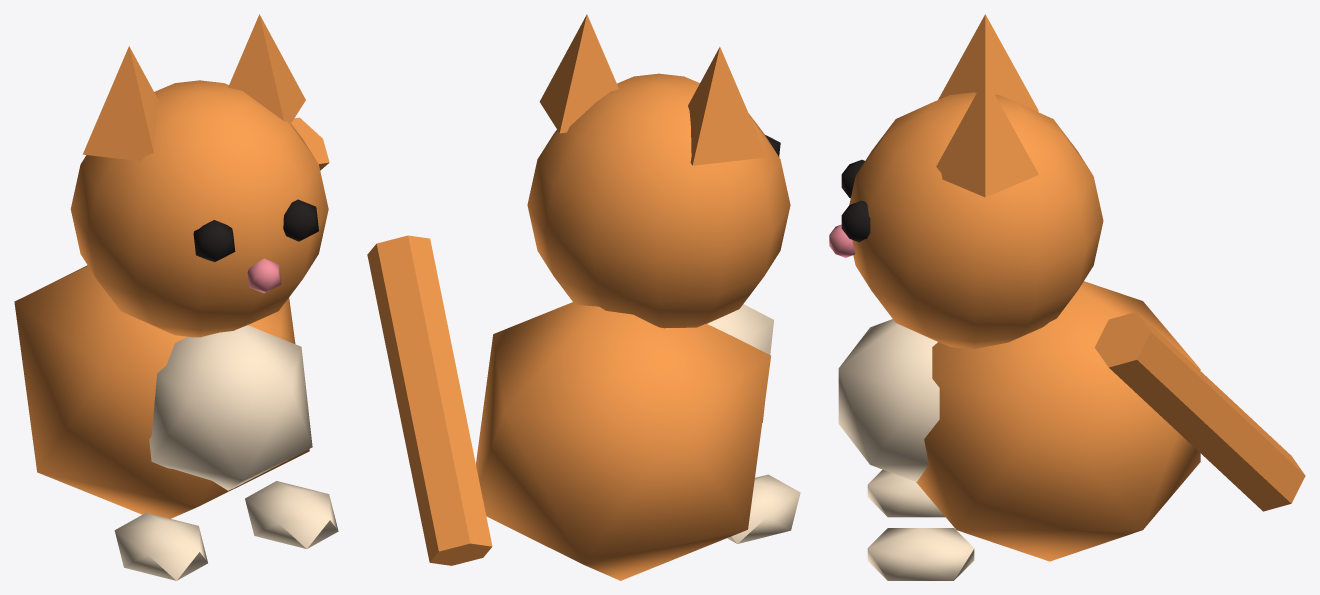
The model's file is v_kitten.glb.
3 renders of one model, left to right at view 1: azimuth 30°, elevation 25°; view 2: azimuth 150°, elevation 25°; view 3: azimuth 270°, elevation 25°, orthographic. The views are drawn at different scales.
Visible parts, largest first — view 1: Kitten; view 2: Kitten; view 3: Kitten.
Part boxes in pixels (x1,y1,x2,y2): Kitten: [14, 14, 338, 580]; Kitten: [367, 14, 800, 580]; Kitten: [829, 14, 1305, 580].
Size of the model in its own units: 0.354 by 0.53 by 0.4436.
